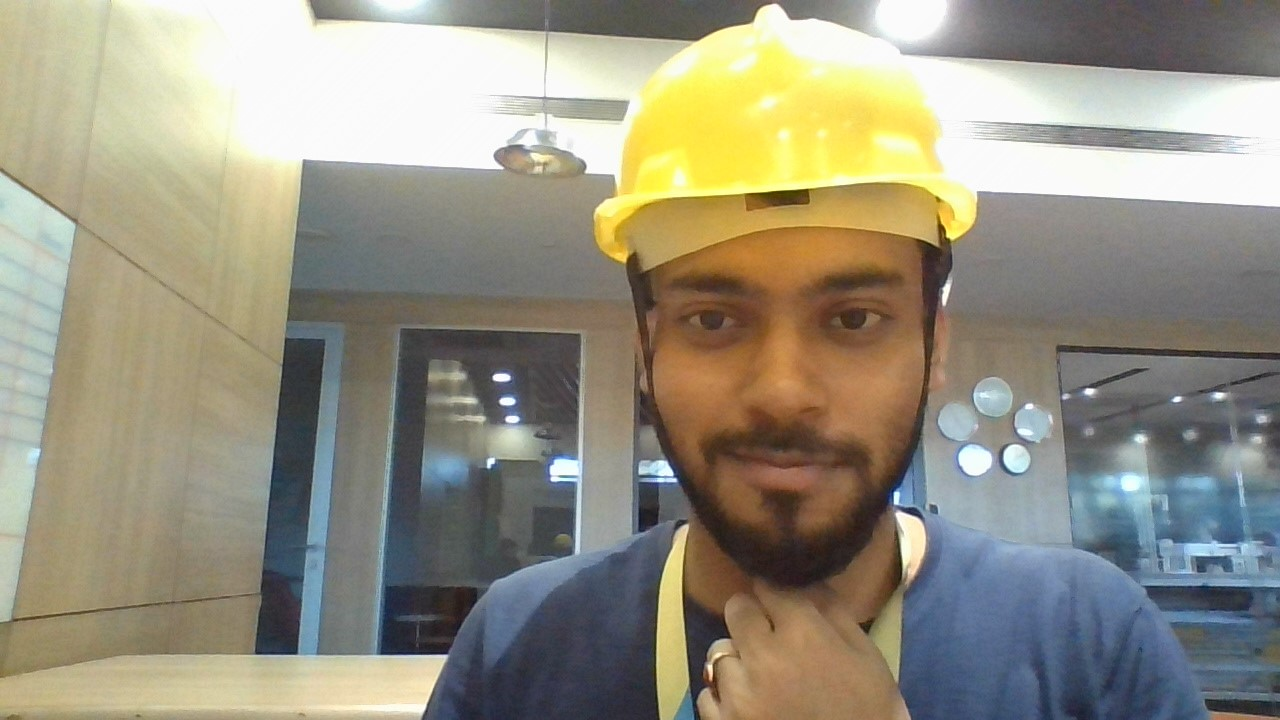Person_wearing_helmet: (593, 4, 987, 358)
